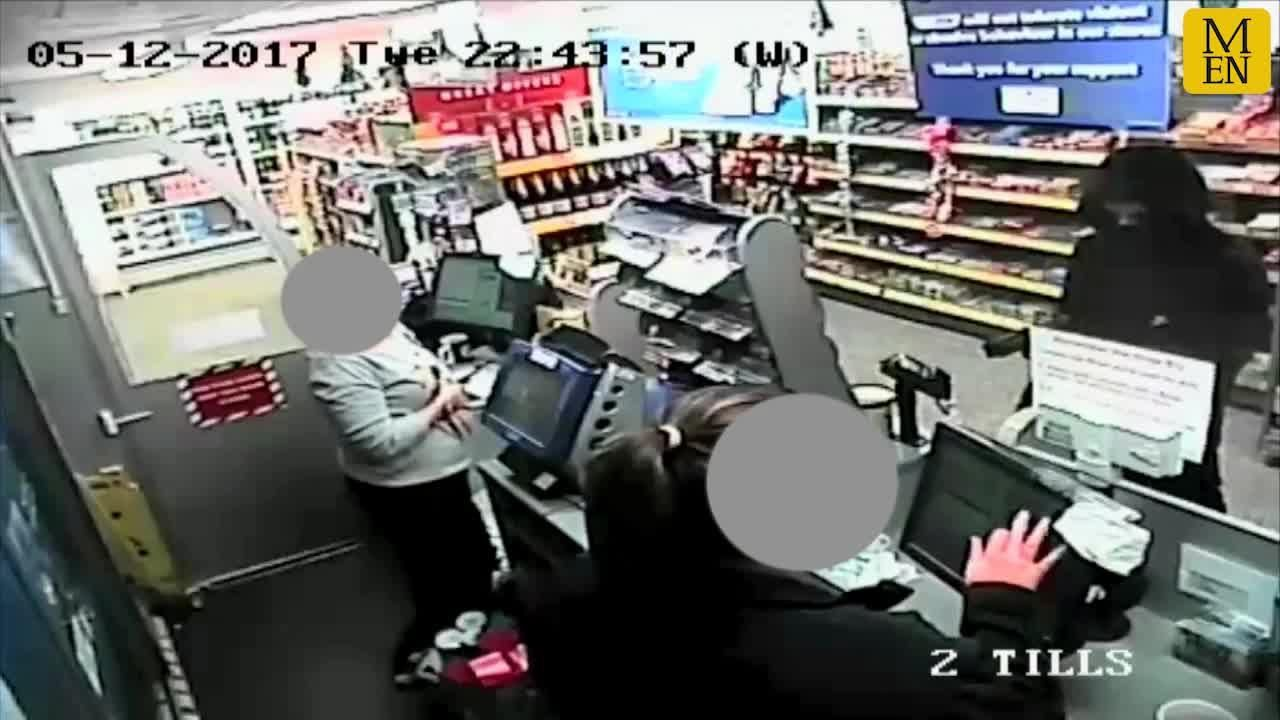gun: (983, 312, 1079, 404)
